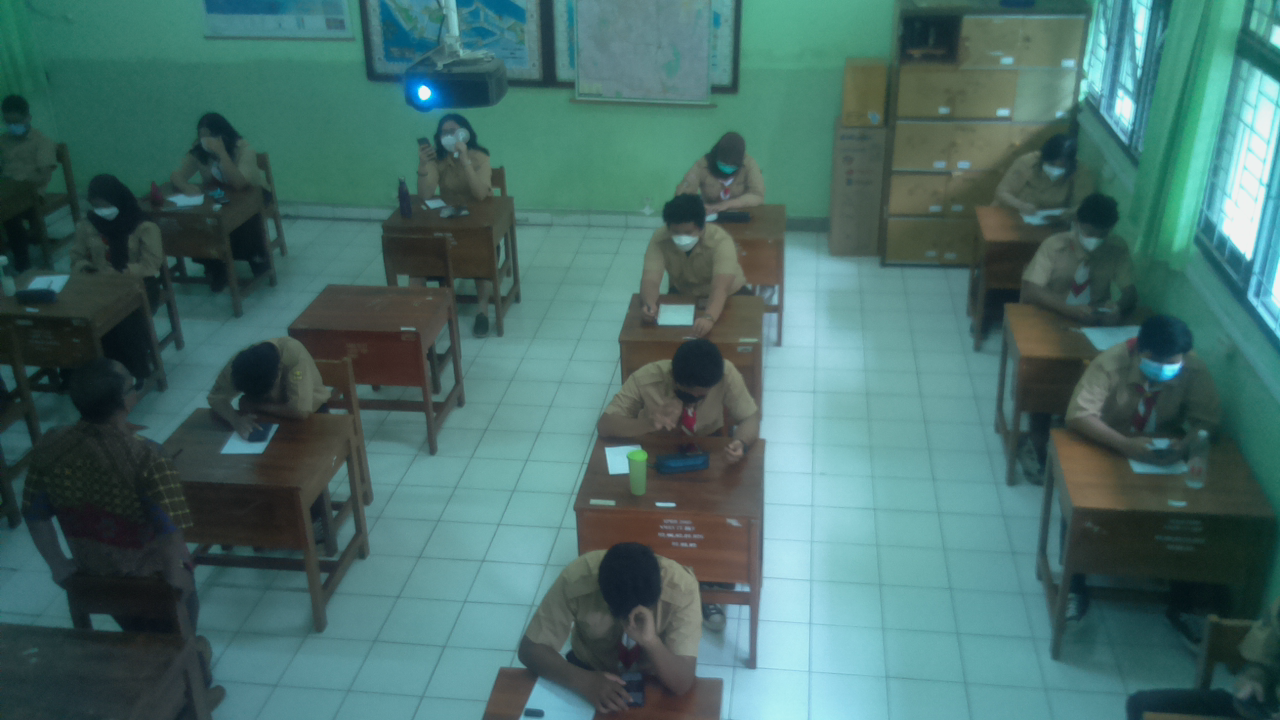Student: (35, 359, 193, 581), (561, 541, 699, 673), (1089, 305, 1205, 422), (631, 335, 739, 434), (647, 191, 747, 292), (1035, 197, 1127, 306), (219, 335, 324, 418), (79, 175, 163, 278), (0, 91, 68, 185), (1007, 131, 1086, 210), (681, 129, 761, 205), (181, 111, 259, 188), (415, 117, 494, 192)
